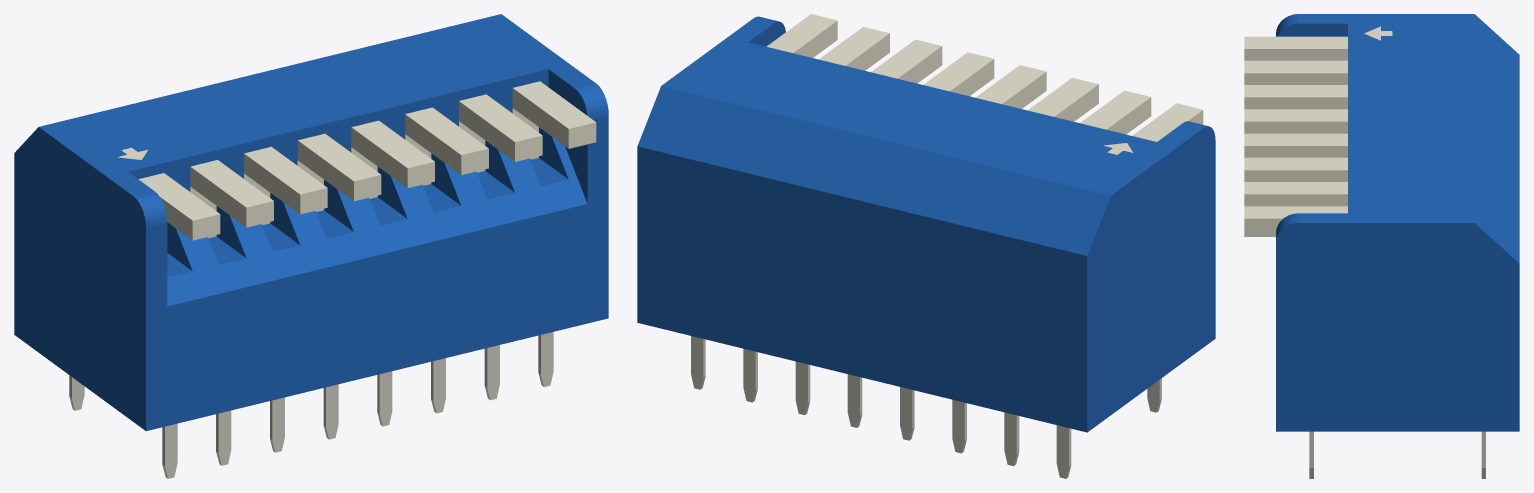
The model's file is kc-sw_dip_spstx08_piano_10.8x21.88mm_w7.62mm_p2.54mm.glb.
3 renders of one model, left to right at view 1: azimuth 30°, elevation 25°; view 2: azimuth 150°, elevation 25°; view 3: azimuth 270°, elevation 25°, orthographic. The views are drawn at different scales.
Visible parts, largest first — view 1: 0_0.16666666666666666_0.5_0, 0.75_0.75_0.6666666666666666_0, 0.6666666666666666_0.6666666666666666_0.5833333333333334_0.8; view 2: 0_0.16666666666666666_0.5_0, 0.75_0.75_0.6666666666666666_0, 0.6666666666666666_0.6666666666666666_0.5833333333333334_0.8; view 3: 0_0.16666666666666666_0.5_0, 0.75_0.75_0.6666666666666666_0, 0.6666666666666666_0.6666666666666666_0.5833333333333334_0.8.
Part boxes in pixels (x1,y1,x2,y2): 0_0.16666666666666666_0.5_0: (14,14,608,431); 0.75_0.75_0.6666666666666666_0: (117,81,596,240); 0.6666666666666666_0.6666666666666666_0.5833333333333334_0.8: (69,332,553,478); 0_0.16666666666666666_0.5_0: (637,16,1215,432); 0.75_0.75_0.6666666666666666_0: (766,14,1203,154); 0.6666666666666666_0.6666666666666666_0.5833333333333334_0.8: (691,336,1161,478); 0_0.16666666666666666_0.5_0: (1276,14,1519,431); 0.75_0.75_0.6666666666666666_0: (1244,26,1391,236); 0.6666666666666666_0.6666666666666666_0.5833333333333334_0.8: (1309,431,1485,478).
Size of the model in its own units: 2.19 by 1.34 by 1.22.
